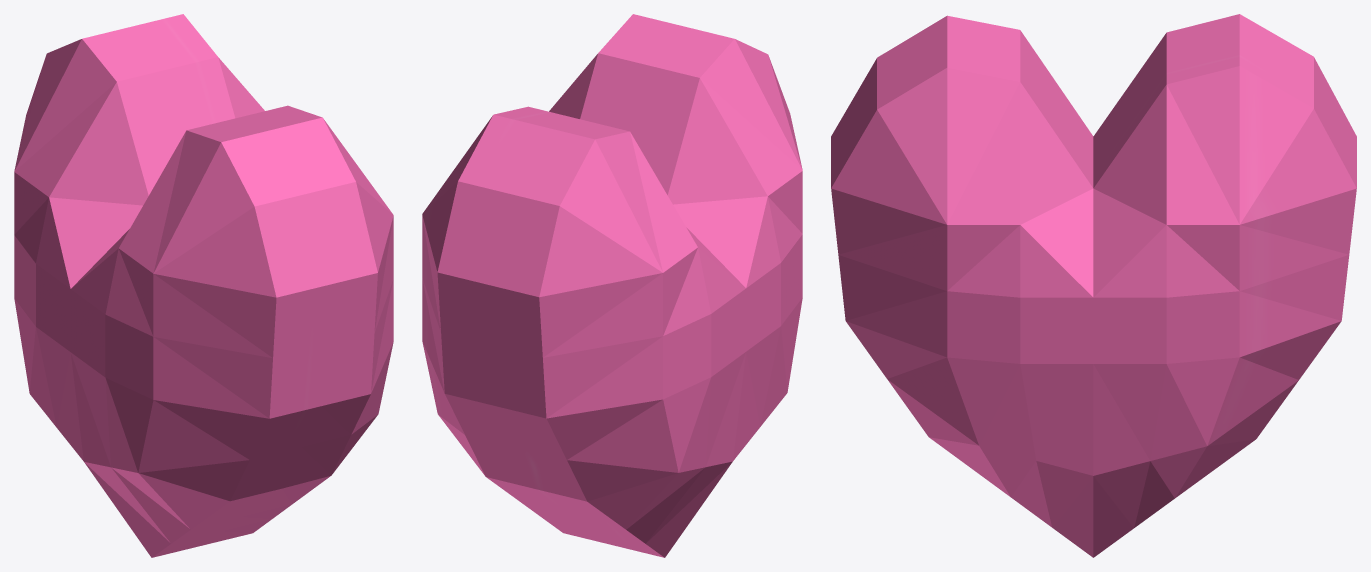
File: heartEfect.obj
The picture shows the model from 3 angles, left to right: view 1: azimuth 30°, elevation 25°; view 2: azimuth 150°, elevation 25°; view 3: azimuth 270°, elevation 25°; orthographic projection. The views are drawn at different scales.
Parts seen in each view (by area): view 1: Cube; view 2: Cube; view 3: Cube.
Boxes of the visible parts, x1=… form: Cube: x1=14, y1=14, x2=393, y2=557; Cube: x1=422, y1=14, x2=802, y2=557; Cube: x1=831, y1=14, x2=1356, y2=557.
Size of the model in its own units: 1.1 by 1.86 by 1.8.
1 material, 1 textured.
